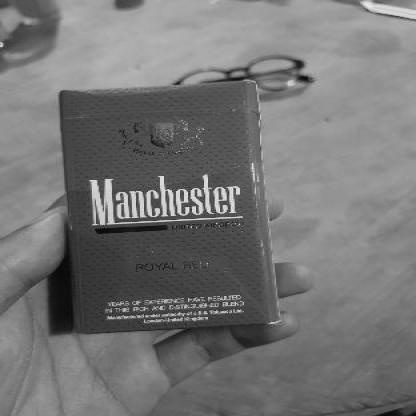objects: (60, 80, 280, 334)
